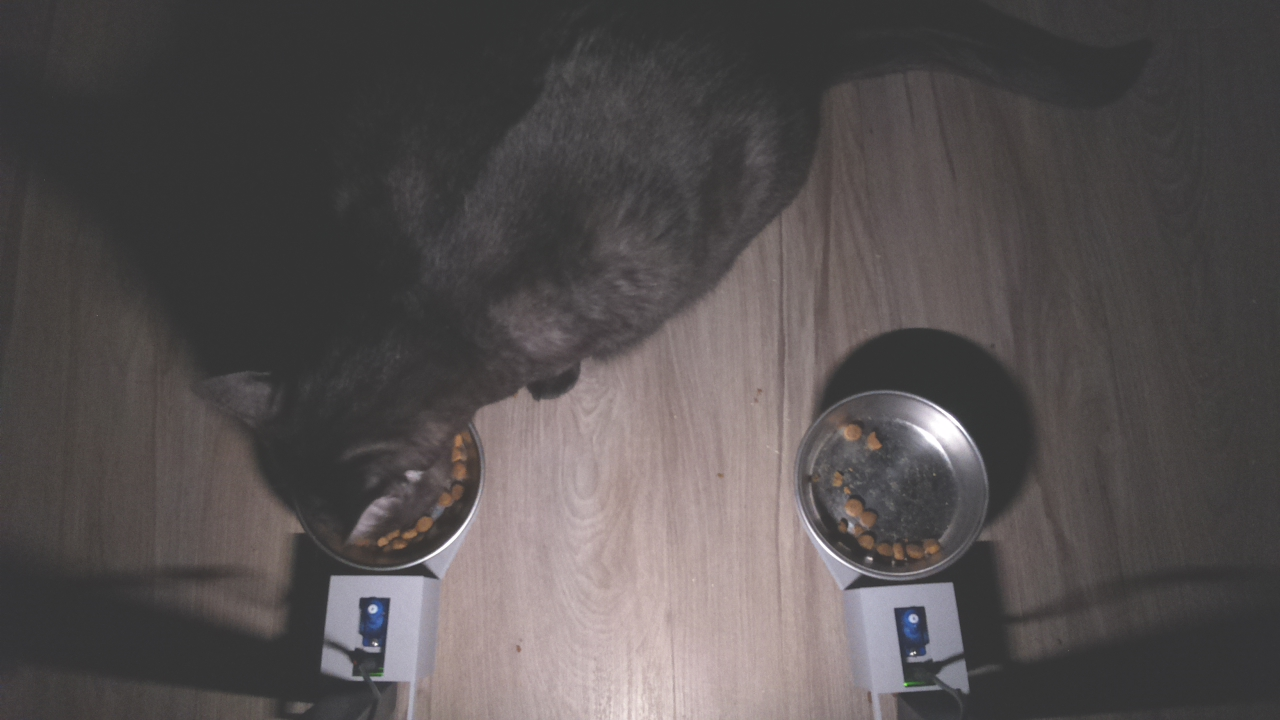open_bowl: (789, 383, 1002, 586)
saki_eating: (182, 291, 536, 589)
